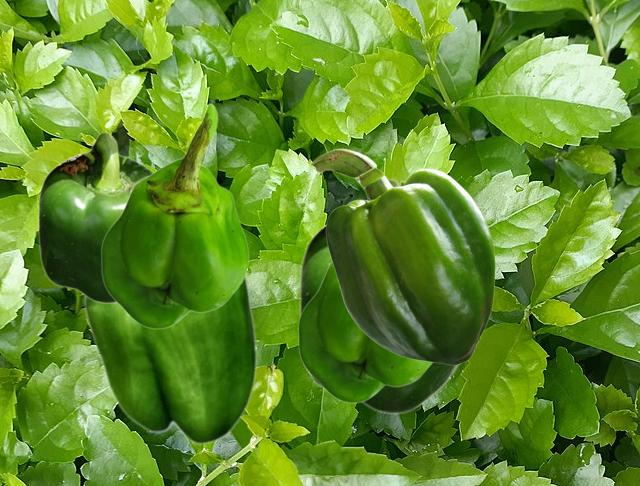bell_pepper: (310, 148, 494, 364), (298, 178, 459, 414), (100, 102, 248, 328), (83, 273, 257, 444), (37, 131, 153, 303), (297, 262, 432, 402)
